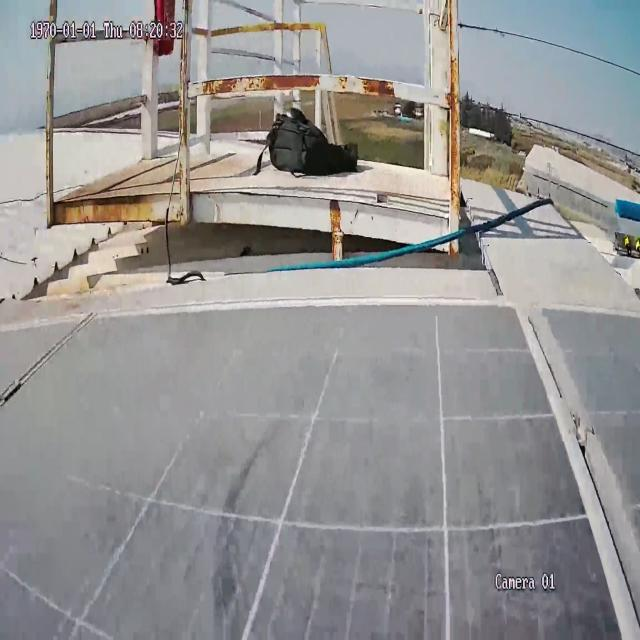interior panel: (498, 294, 640, 640)
outher panel: (0, 0, 640, 274)
